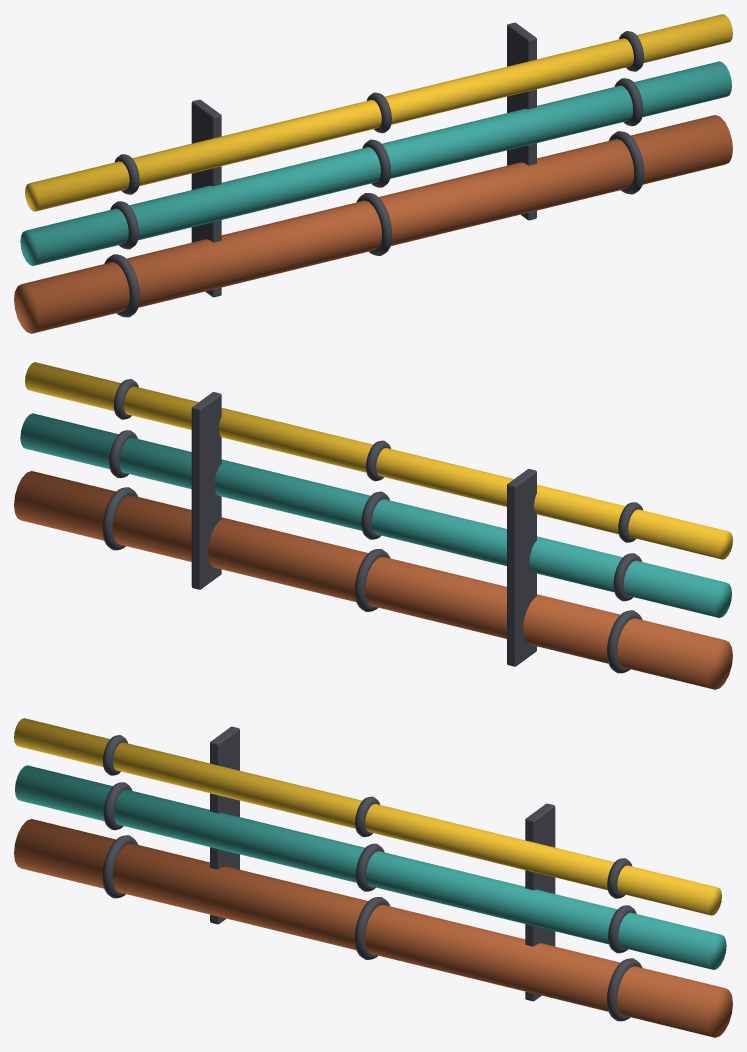
The model's file is Wall_PipeBundle.fbx.
The picture shows the model from 3 angles, top to bottom: view 1: azimuth 30°, elevation 25°; view 2: azimuth 150°, elevation 25°; view 3: azimuth 330°, elevation 25°; orthographic projection.
Parts seen in each view (by area): view 1: Wall_PipeBundle; view 2: Wall_PipeBundle; view 3: Wall_PipeBundle.
Part boxes in pixels (left/top/right/bottom): Wall_PipeBundle: left=14, top=14, right=732, bottom=333; Wall_PipeBundle: left=14, top=362, right=732, bottom=689; Wall_PipeBundle: left=14, top=718, right=732, bottom=1037.
Bounding box in the file's own units: 4.4 × 1.1 × 0.3984.
